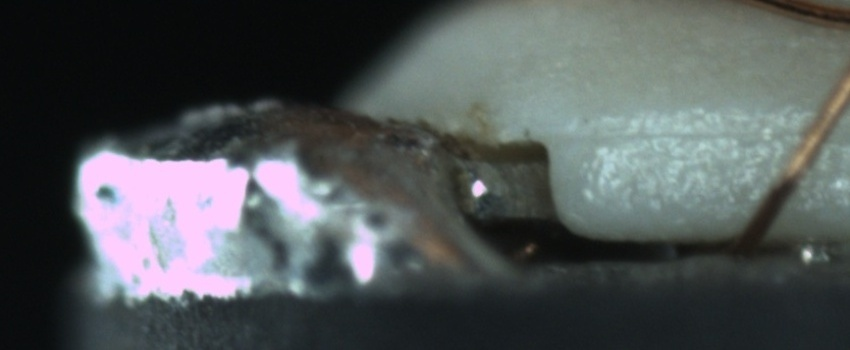DL: (575, 96, 835, 168)
